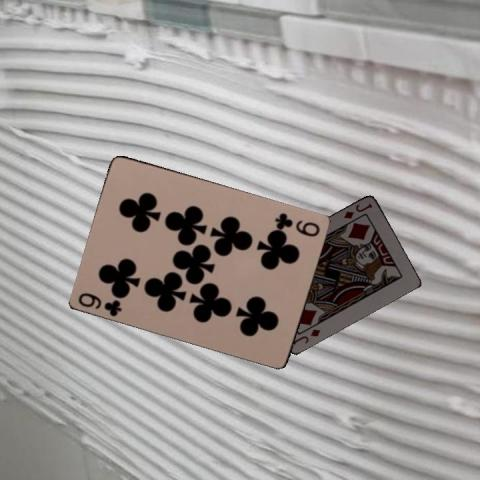9c: (272, 210, 322, 238), (75, 290, 124, 318)
Jd: (289, 325, 322, 346), (341, 200, 374, 220)
